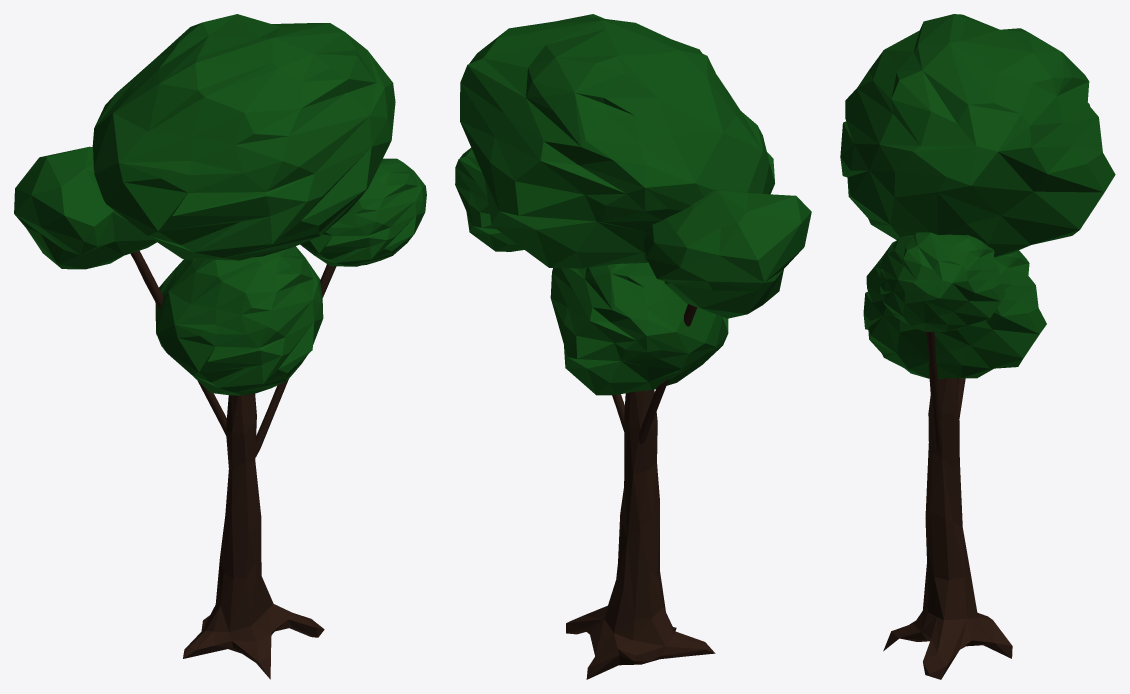
File: SM_tree_08.fbx
3 renders of one model, left to right at view 1: azimuth 30°, elevation 25°; view 2: azimuth 150°, elevation 25°; view 3: azimuth 270°, elevation 25°, orthographic. The views are drawn at different scales.
Visible parts, largest first — view 1: tree_08; view 2: tree_08; view 3: tree_08.
Boxes of the visible parts, x1=… form: tree_08: x1=14, y1=14, x2=426, y2=679; tree_08: x1=455, y1=14, x2=811, y2=679; tree_08: x1=840, y1=14, x2=1115, y2=679.
Size of the model in its own units: 761 by 1233 by 491.
